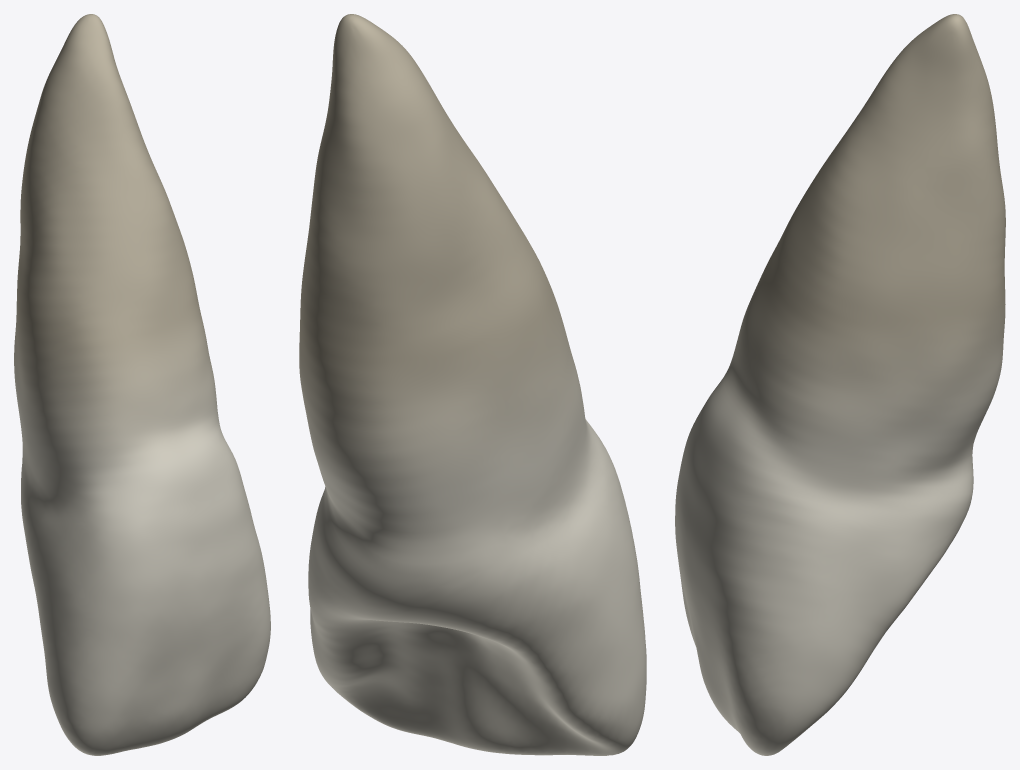
3 views of the same model, side by side, from view 1: azimuth 30°, elevation 25°; view 2: azimuth 150°, elevation 25°; view 3: azimuth 270°, elevation 25° (orthographic). The views are drawn at different scales.
Visible parts, largest first — view 1: Tooth_21_0; view 2: Tooth_21_0; view 3: Tooth_21_0.
Boxes of the visible parts, x1,y1,x2,y2 form: Tooth_21_0: [14, 14, 270, 755]; Tooth_21_0: [299, 14, 646, 755]; Tooth_21_0: [675, 14, 1005, 755].
Bounding box in the file's own units: 1.05 × 2.87 × 1.2.
